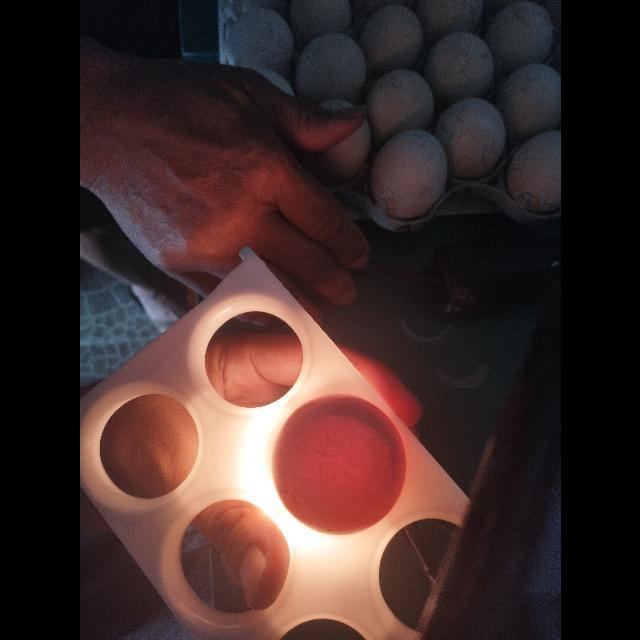Infertile: (269, 392, 407, 538)
